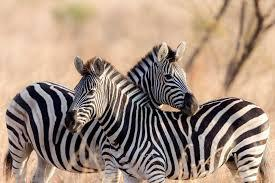Zebra: (66, 57, 269, 182), (128, 42, 197, 114)
